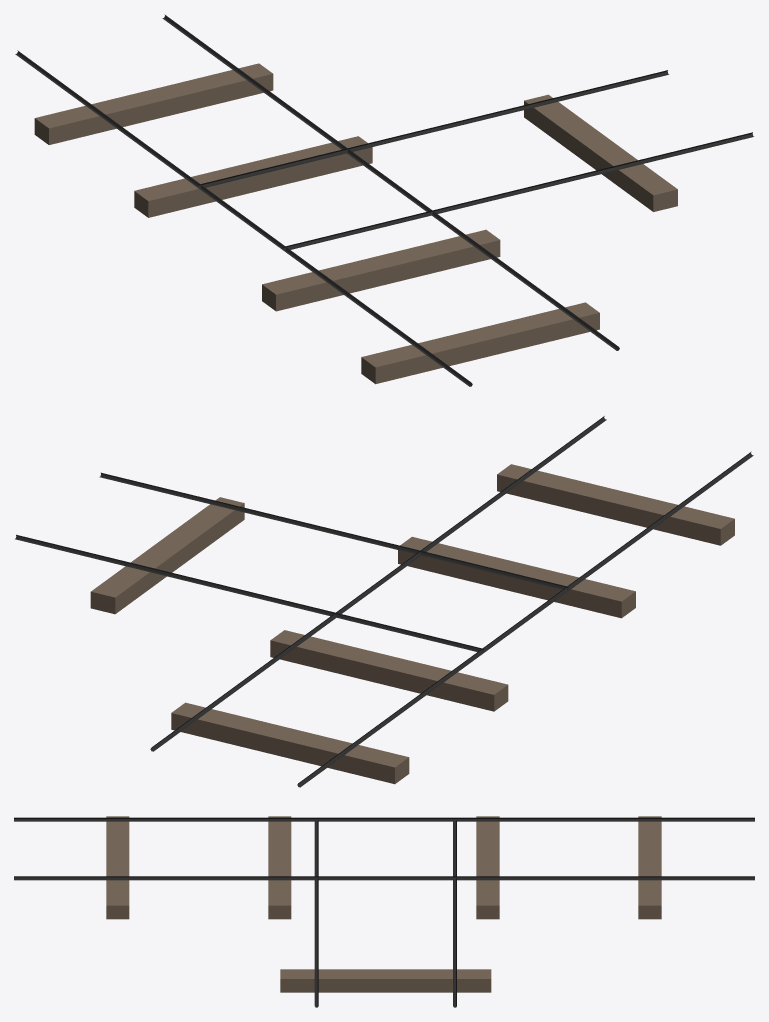
3 views of the same model, one above another, from view 1: azimuth 30°, elevation 25°; view 2: azimuth 150°, elevation 25°; view 3: azimuth 270°, elevation 25° (orthographic). The views are drawn at different scales.
Visible parts, largest first — view 1: RL55 | archived geometry, RL55 | line, light and sprite surfaces; view 2: RL55 | archived geometry, RL55 | line, light and sprite surfaces; view 3: RL55 | archived geometry, RL55 | line, light and sprite surfaces.
Part boxes in pixels (<box>): RL55 | archived geometry: <box>34,63,677,384</box>; RL55 | line, light and sprite surfaces: <box>15,14,753,386</box>; RL55 | archived geometry: <box>90,464,734,784</box>; RL55 | line, light and sprite surfaces: <box>15,416,753,787</box>; RL55 | archived geometry: <box>106,816,661,992</box>; RL55 | line, light and sprite surfaces: <box>14,817,754,1007</box>.
Size of the model in its own units: 10.35 by 0.6486 by 16.06.
